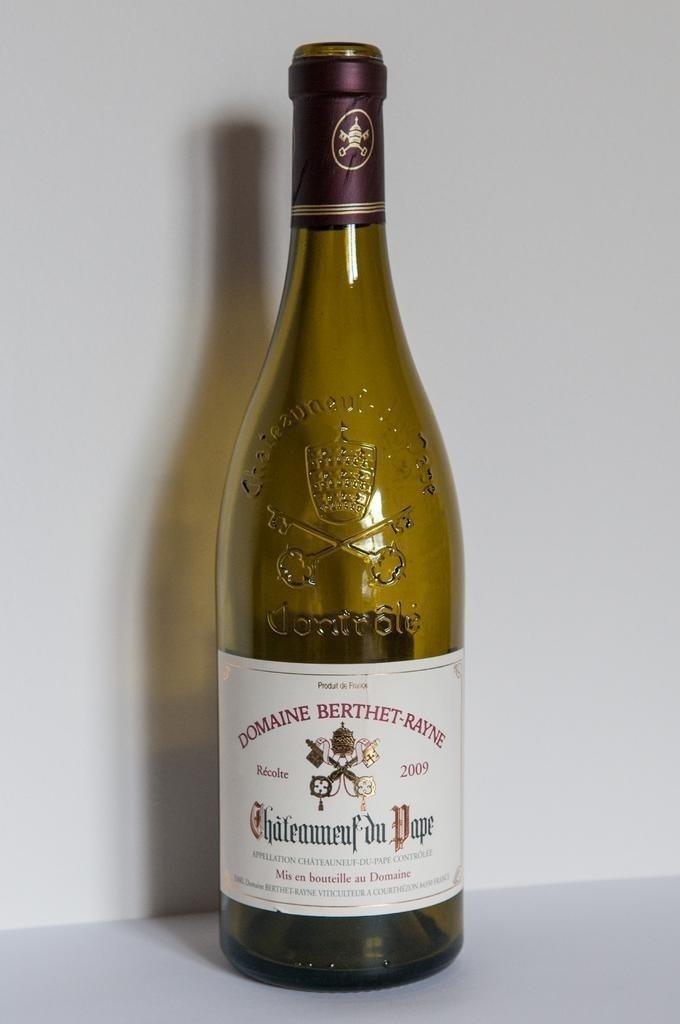bottle-glass: (211, 37, 472, 991)
